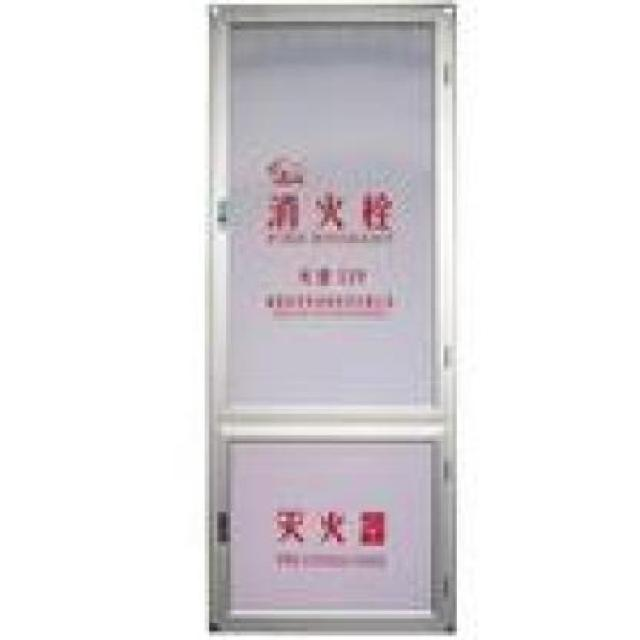firehydrant: (200, 0, 463, 638)
